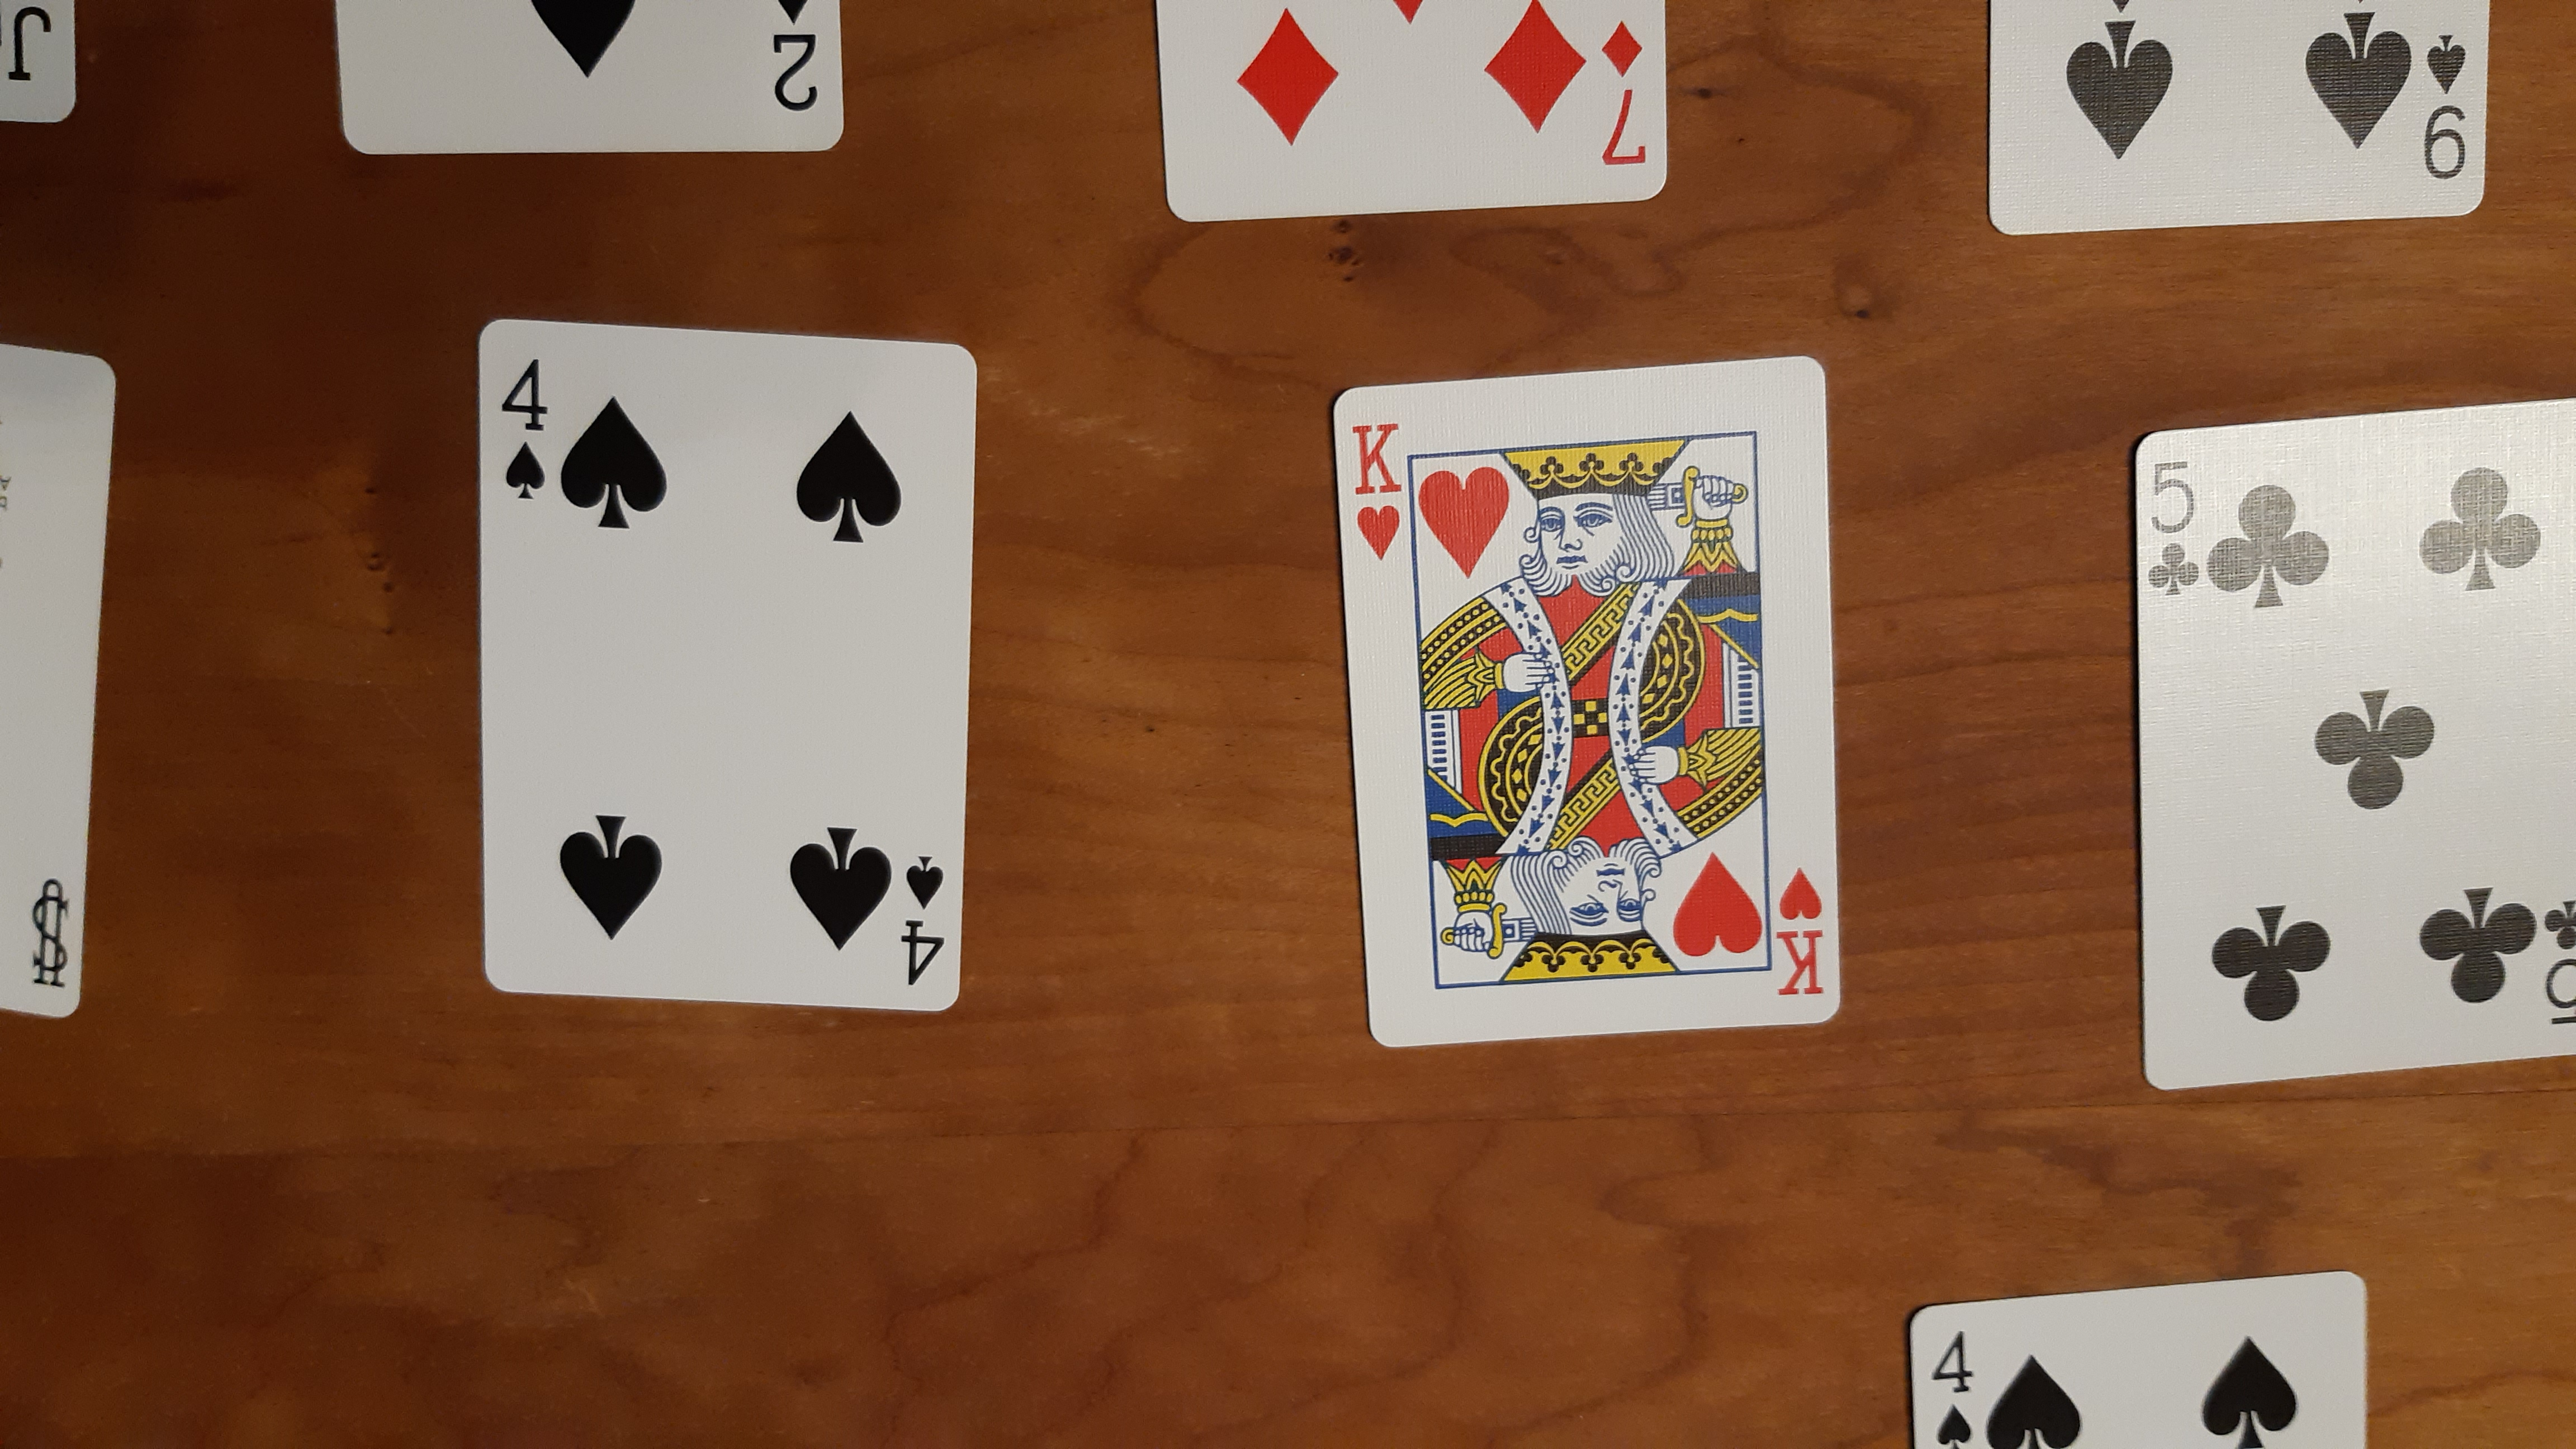Black_Club_5: (2146, 451, 2204, 605), (2534, 893, 2576, 1030)
Black_Spade_4: (494, 352, 554, 511), (893, 847, 952, 987), (1927, 1323, 1980, 1449)
Red_Diamond_7: (1596, 9, 1652, 170)
Red_Heart_King: (1345, 414, 1410, 559), (1767, 867, 1829, 996)
